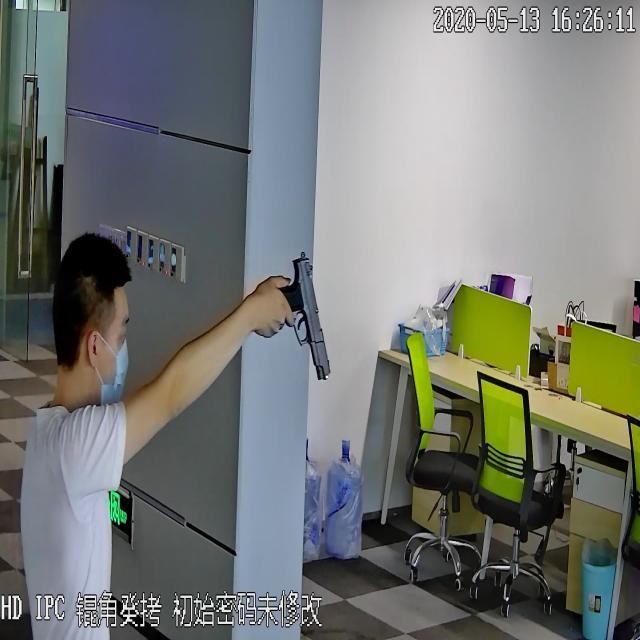gun: (262, 246, 332, 380)
